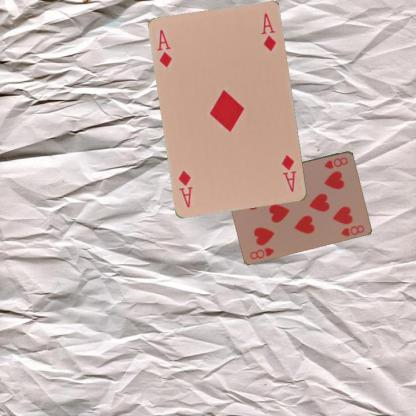8h: (247, 244, 276, 260), (322, 154, 349, 170)
Ad: (279, 152, 299, 194), (155, 27, 174, 71)
